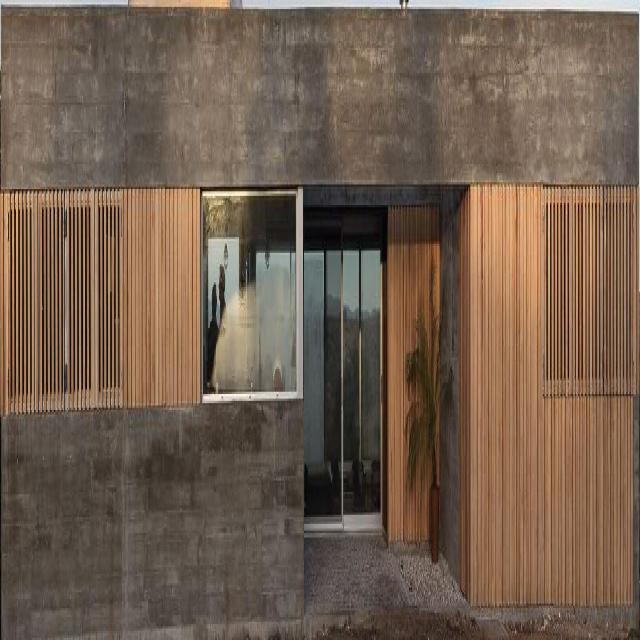door: (340, 216, 383, 534)
window: (304, 204, 387, 530), (200, 187, 302, 405)
